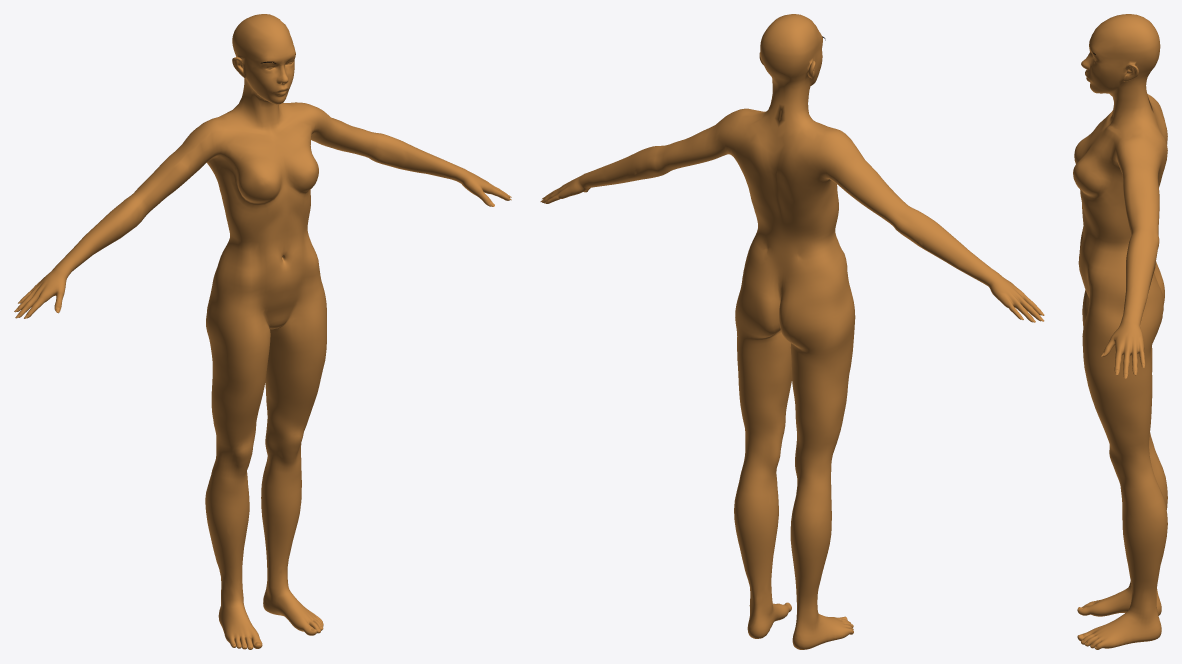
Rendered from female_XS_4.glb.
The picture shows the model from 3 angles, left to right: view 1: azimuth 30°, elevation 25°; view 2: azimuth 150°, elevation 25°; view 3: azimuth 270°, elevation 25°; orthographic projection.
Visible parts, largest first — view 1: Body; view 2: Body; view 3: Body.
Part boxes in pixels (x1,y1,x2,y2): Body: (16,14,511,649); Body: (542,14,1041,649); Body: (1073,14,1167,649).
Size of the model in its own units: 1.58 by 1.85 by 0.2597.
